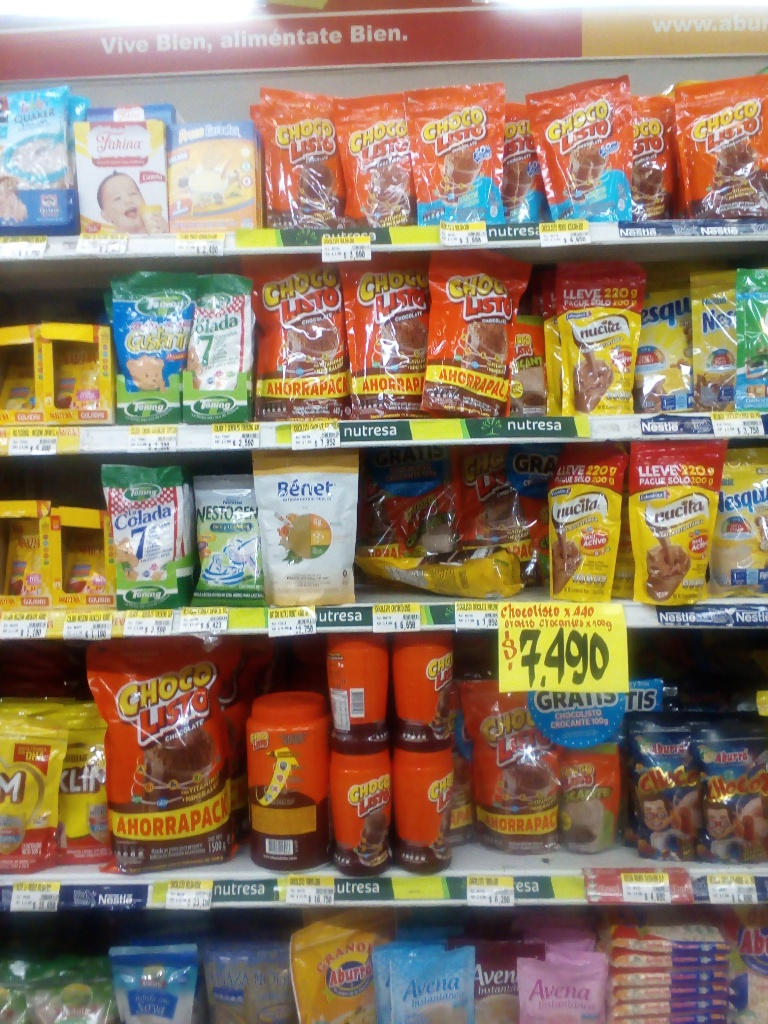COL0170102DYP10000: (508, 314, 559, 417)
COL0170103DYP1,500: (85, 638, 252, 875)
COL0170103DYP20000: (331, 90, 418, 231)
COL0170103DYP40000: (422, 249, 531, 418)
COL0170103DYP44000: (461, 681, 559, 853)
COL0170103TRR00100: (242, 693, 331, 873)
COL0170103TRR30000: (389, 747, 456, 874)
COL0170104DYP20000: (529, 74, 633, 223)
COL0170303DYP20000: (637, 266, 698, 408)
COL0170306DYP20000: (707, 450, 767, 616)
